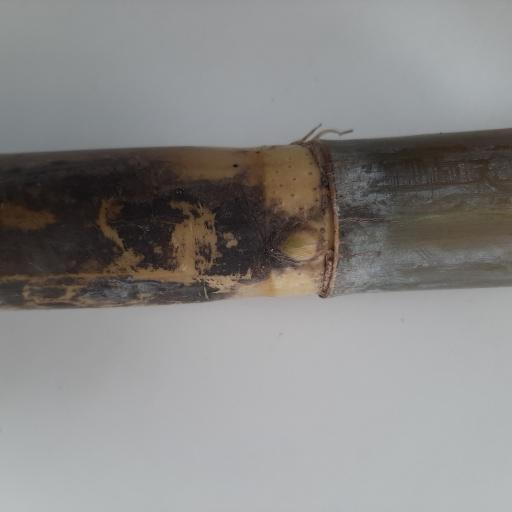Bud: (277, 225, 322, 267)
